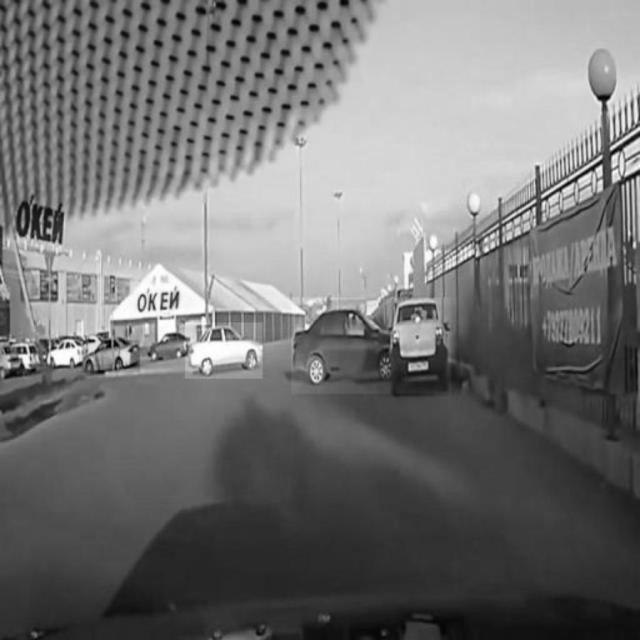accident: (292, 298, 452, 394)
vehicle: (186, 323, 263, 379), (83, 340, 140, 374)
